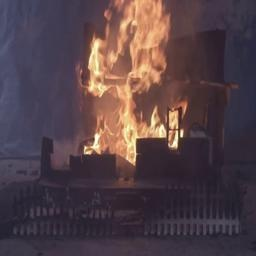fire: (61, 0, 197, 171)
